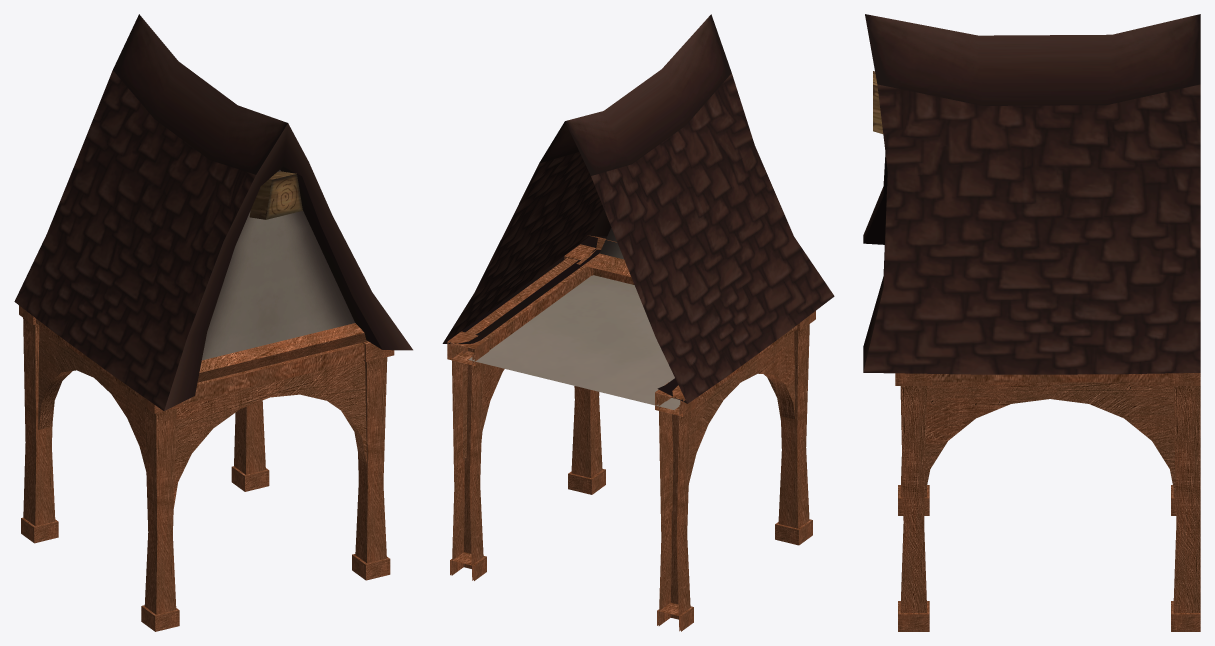
Rendered from fanasty_mod_extention_piece_H.fbx.
3 renders of one model, left to right at view 1: azimuth 30°, elevation 25°; view 2: azimuth 150°, elevation 25°; view 3: azimuth 270°, elevation 25°, orthographic. The views are drawn at different scales.
Parts seen in each view (by area): view 1: extention_piece_H; view 2: extention_piece_H; view 3: extention_piece_H.
Boxes of the visible parts, box(x1,y1,x2,y2) form: extention_piece_H: box(14, 14, 412, 631); extention_piece_H: box(442, 14, 834, 631); extention_piece_H: box(863, 14, 1200, 631).
Size of the model in its own units: 3.85 by 7.23 by 3.99.
